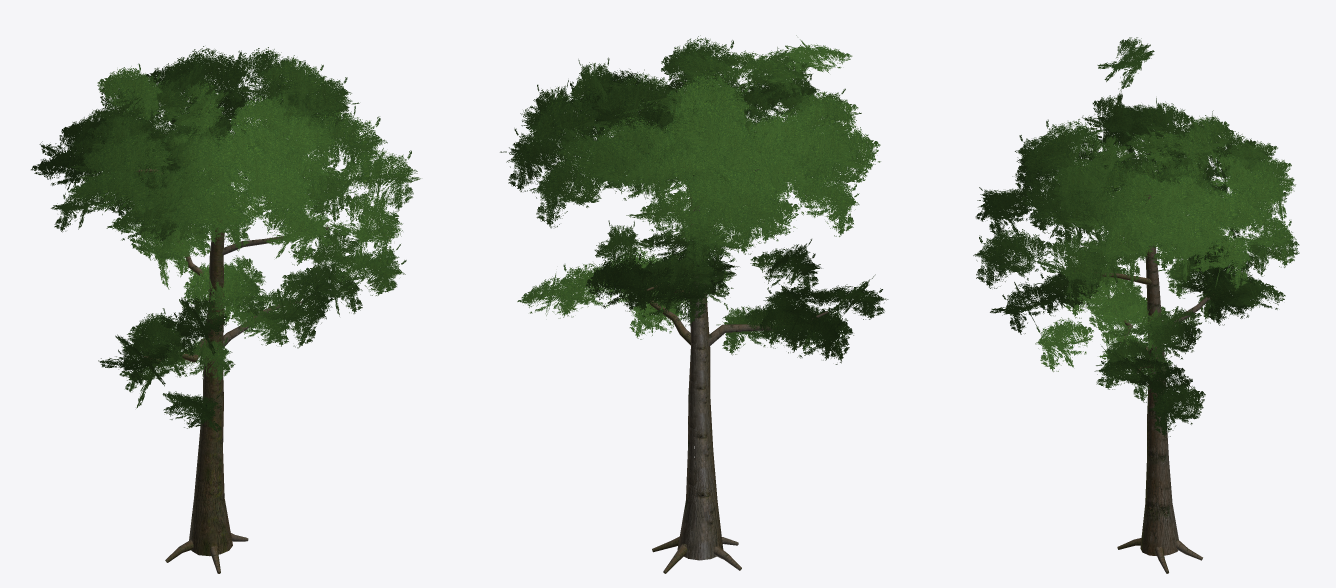
Rendered from tree_broadleaf_a.glb.
3 renders of one model, left to right at view 1: azimuth 30°, elevation 25°; view 2: azimuth 150°, elevation 25°; view 3: azimuth 270°, elevation 25°, orthographic. The views are drawn at different scales.
Parts seen in each view (by area): view 1: tree_broadleaf_a; view 2: tree_broadleaf_a; view 3: tree_broadleaf_a.
Boxes of the visible parts, left/top/right/bottom form: tree_broadleaf_a: left=31, top=46, right=420, bottom=573; tree_broadleaf_a: left=500, top=35, right=888, bottom=573; tree_broadleaf_a: left=973, top=37, right=1299, bottom=573.
Bounding box in the file's own units: 8.67 × 12.19 × 8.52.
2 materials, 2 textured.
